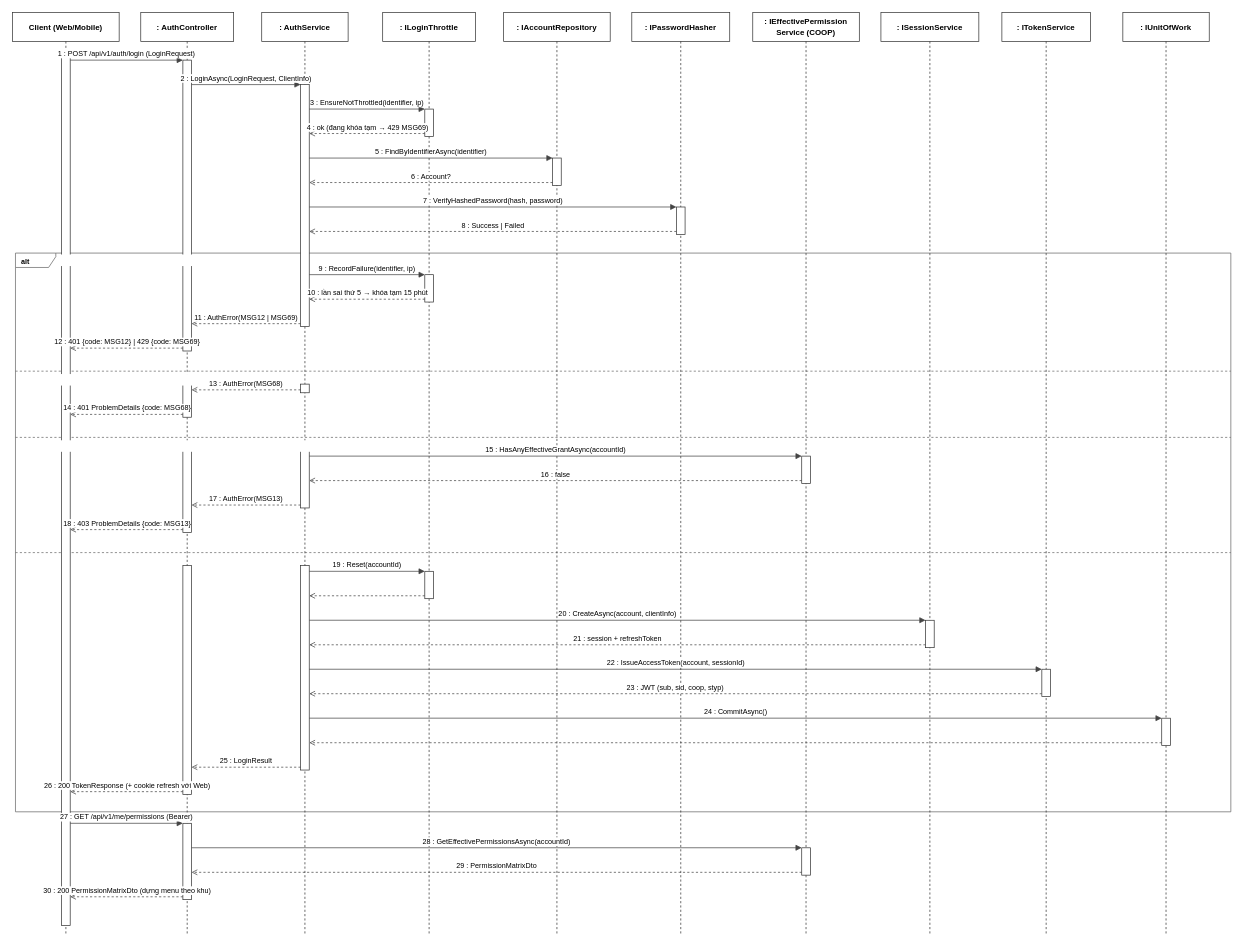
Image size: 1243x948. Some labels were removed from this diagram. Here are the shapes that lost their labels. From the top down, the centre of each, then its label:
the point at 138,260: [không có tài khoản hoặc sai mật khẩu]
the point at 116,379: [mật khẩu tạm đúng nhưng quá 24 giờ (UC02 2d)]
the point at 167,445: [tài khoản LOCKED, hoặc nhân viên không còn cặp khu – vai trò hiệu lực]
the point at 38,561: [hợp lệ]
